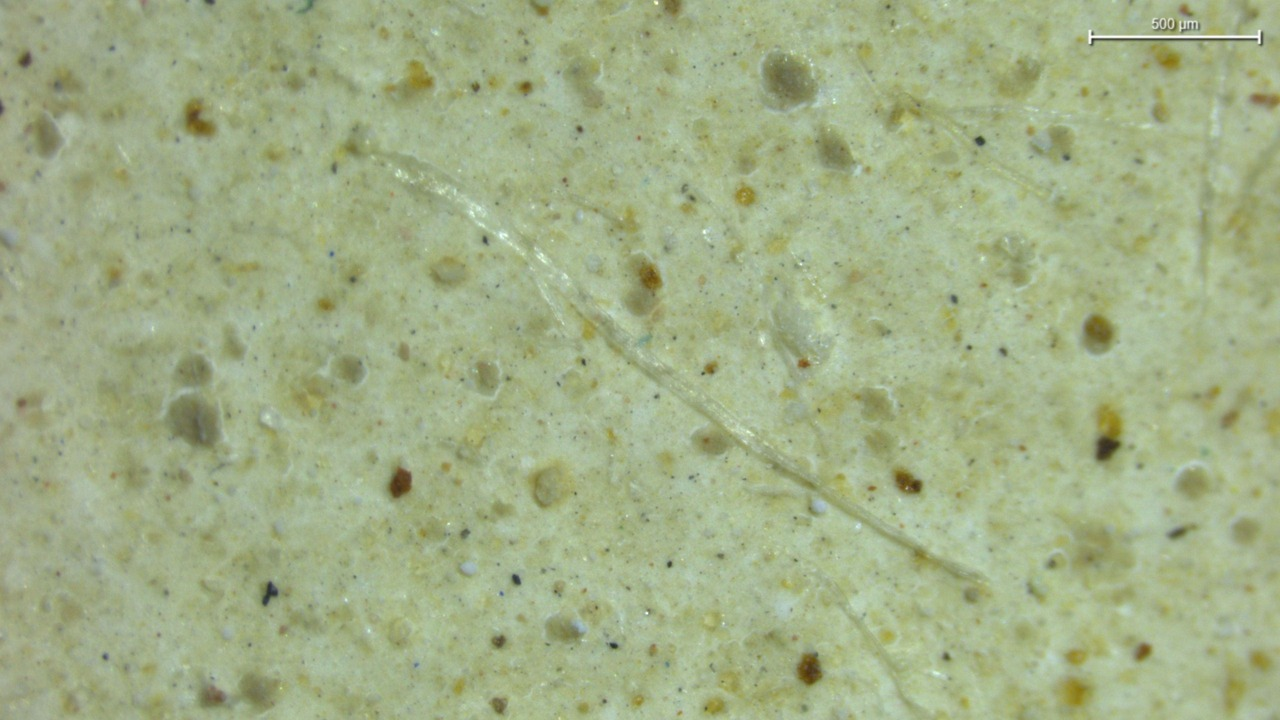microplastic_fragment: (371, 153, 984, 583), (769, 299, 835, 379)
